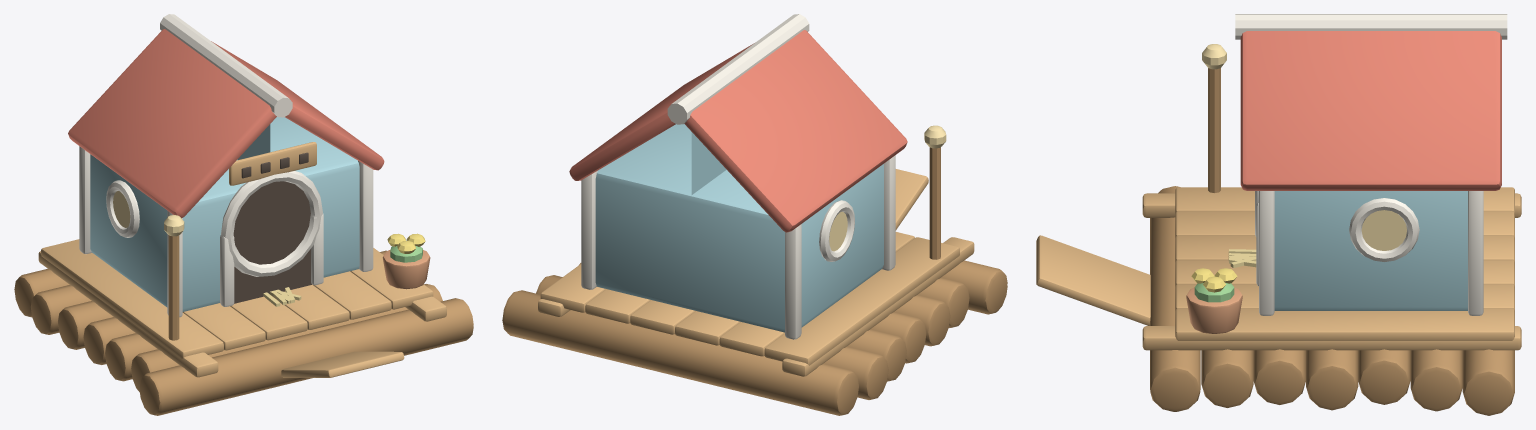
The model's file is puddles-duck-house.glb.
3 views of the same model, side by side, from view 1: azimuth 30°, elevation 25°; view 2: azimuth 150°, elevation 25°; view 3: azimuth 270°, elevation 25° (orthographic). The views are drawn at different scales.
Parts seen in each view (by area): view 1: Raft_logs, Roof, House_walls, Deck_planks, Door_arch, Door_trim, Corner_trims, Roof_ridge, Roof.001, Raft_ties, Ramp, Door_dark (+10 smaller); view 2: House_walls, Raft_logs, Roof, Deck_planks, Corner_trims, Roof_ridge, Roof.001, Raft_ties, Lamp_post, Window_trim2, Ramp, House_gable (+1 smaller); view 3: Roof.001, Raft_logs, Deck_planks, House_walls, Ramp, Raft_ties, Roof_ridge, Corner_trims, Window_trim, Pot, Lamp_post, Window (+4 smaller).
Part boxes in pixels (x1,y1,x2,y2): Raft_logs: (14,250,473,415); Roof: (68,29,276,218); House_walls: (90,117,359,311); Deck_planks: (41,239,433,358); Door_arch: (233,181,310,264); Door_trim: (221,171,322,276); Corner_trims: (79,146,373,317); Roof_ridge: (160,14,292,117); Roof.001: (211,41,384,170); Raft_ties: (38,251,446,377); Ramp: (281,351,404,377); Door_dark: (234,234,311,303); House_walls: (595,124,883,332); Raft_logs: (502,260,1007,415); Roof: (684,30,907,232); Deck_planks: (540,232,959,365); Corner_trims: (581,155,895,339); Roof_ridge: (667,14,809,124); Roof.001: (569,43,754,180); Raft_ties: (538,237,974,376); Lamp_post: (929,147,940,259); Window_trim2: (819,200,854,261); Ramp: (895,169,928,230); House_gable: (691,132,726,194); Roof.001: (1240,31,1501,190); Raft_logs: (1150,186,1514,415); Deck_planks: (1175,187,1514,340); House_walls: (1274,191,1467,310); Ramp: (1036,235,1150,325); Raft_ties: (1142,193,1521,350); Roof_ridge: (1235,14,1507,39); Corner_trims: (1259,191,1483,315); Window_trim: (1349,198,1419,261); Pot: (1186,287,1242,333); Lamp_post: (1208,68,1220,192); Window: (1361,210,1406,250).
Size of the model in its own units: 1.69 by 1.31 by 1.86.
